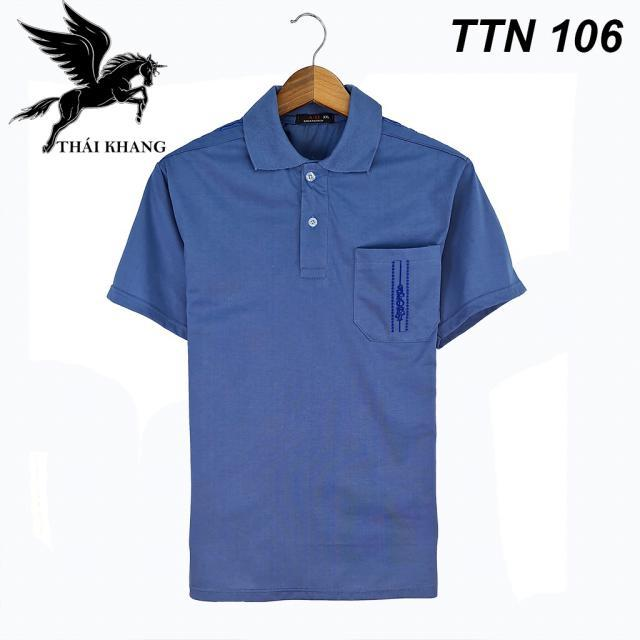Shirt: (108, 84, 520, 605)
